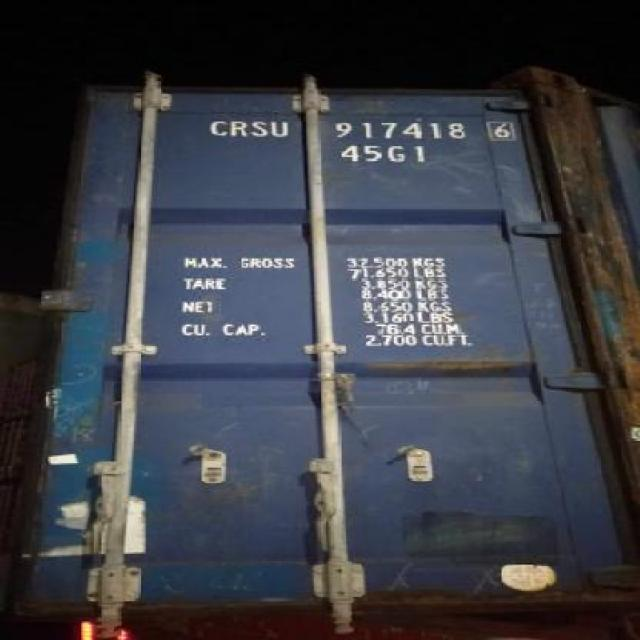ISO: (341, 140, 426, 167)
container_number: (211, 114, 511, 142)
